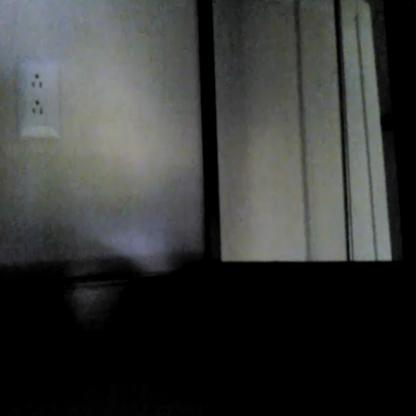OUTLET: (16, 61, 60, 138)
